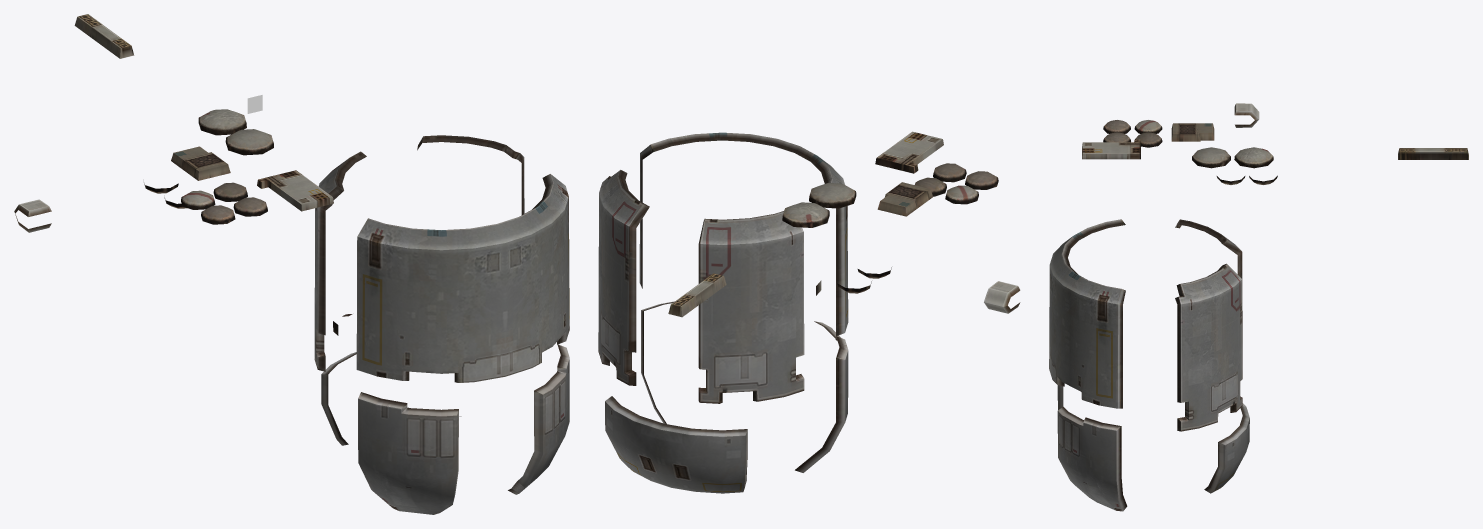
Rendered from prop_static_tr1_container_01_03_0.glb.
The picture shows the model from 3 angles, left to right: view 1: azimuth 30°, elevation 25°; view 2: azimuth 150°, elevation 25°; view 3: azimuth 270°, elevation 25°; orthographic projection. The views are drawn at different scales.
Visible parts, largest first — view 1: tr1_container_01_03_LOD0; view 2: tr1_container_01_03_LOD0; view 3: tr1_container_01_03_LOD0.
Boxes of the visible parts, x1,y1,x2,y2 form: tr1_container_01_03_LOD0: [14, 14, 569, 514]; tr1_container_01_03_LOD0: [598, 131, 1020, 493]; tr1_container_01_03_LOD0: [1049, 103, 1468, 511].
Size of what is drawn, in the model's own units: 5.77 by 6.12 by 5.78.
Materials: 3 (1 with a texture image).
